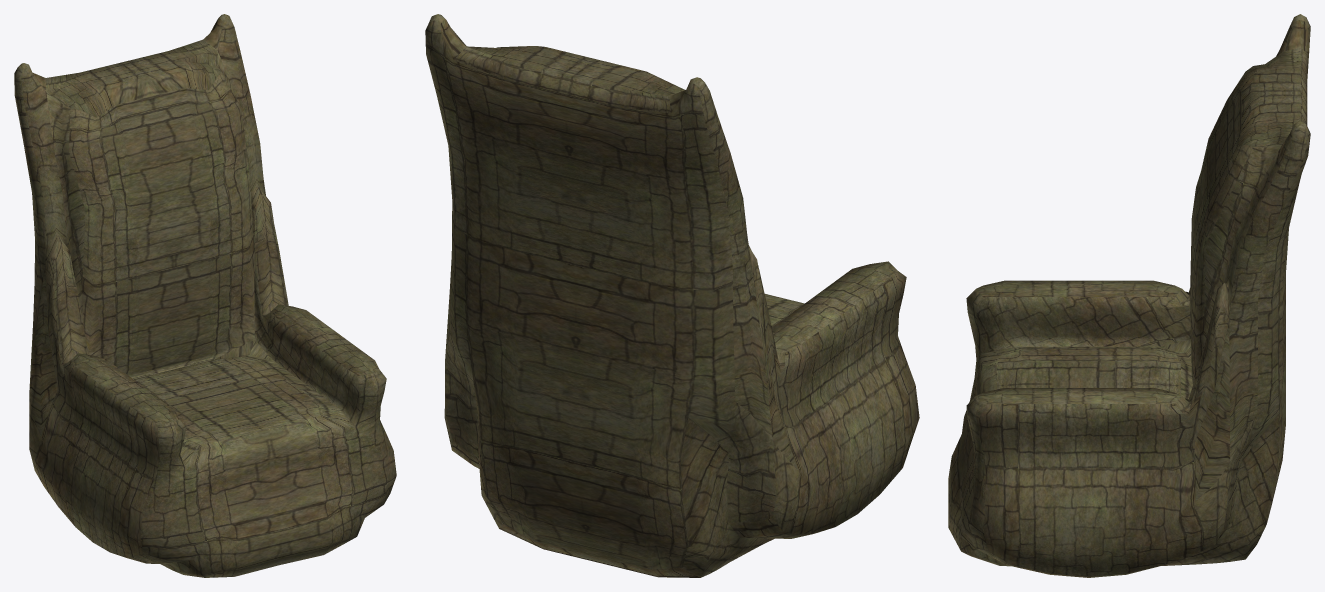
File: Stone_Throne_Chair_1.fbx
The picture shows the model from 3 angles, left to right: view 1: azimuth 30°, elevation 25°; view 2: azimuth 150°, elevation 25°; view 3: azimuth 270°, elevation 25°; orthographic projection. The views are drawn at different scales.
Visible parts, largest first — view 1: Cube; view 2: Cube; view 3: Cube.
Part boxes in pixels (x1,y1,x2,y2): Cube: (14, 14, 396, 577); Cube: (425, 14, 919, 577); Cube: (948, 14, 1310, 577).
Bounding box in the file's own units: 3 × 4.5 × 3.22.
